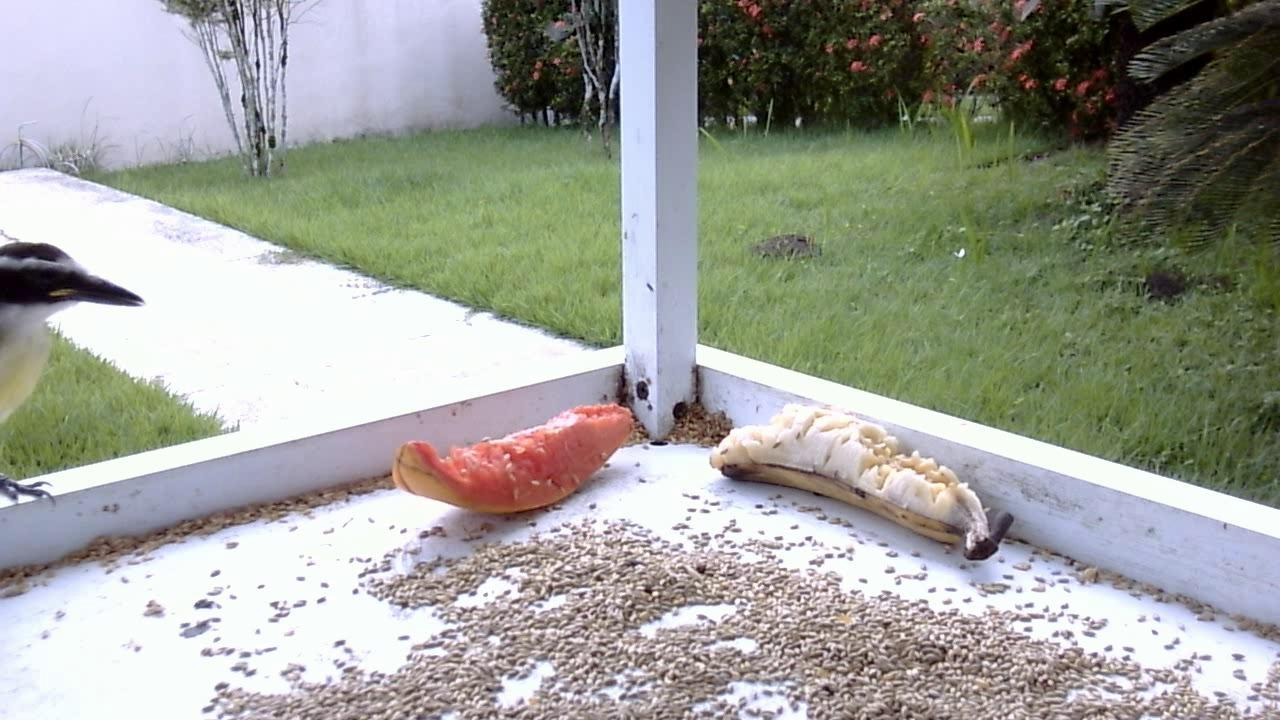bem_te_vi: (1, 215, 148, 527)
